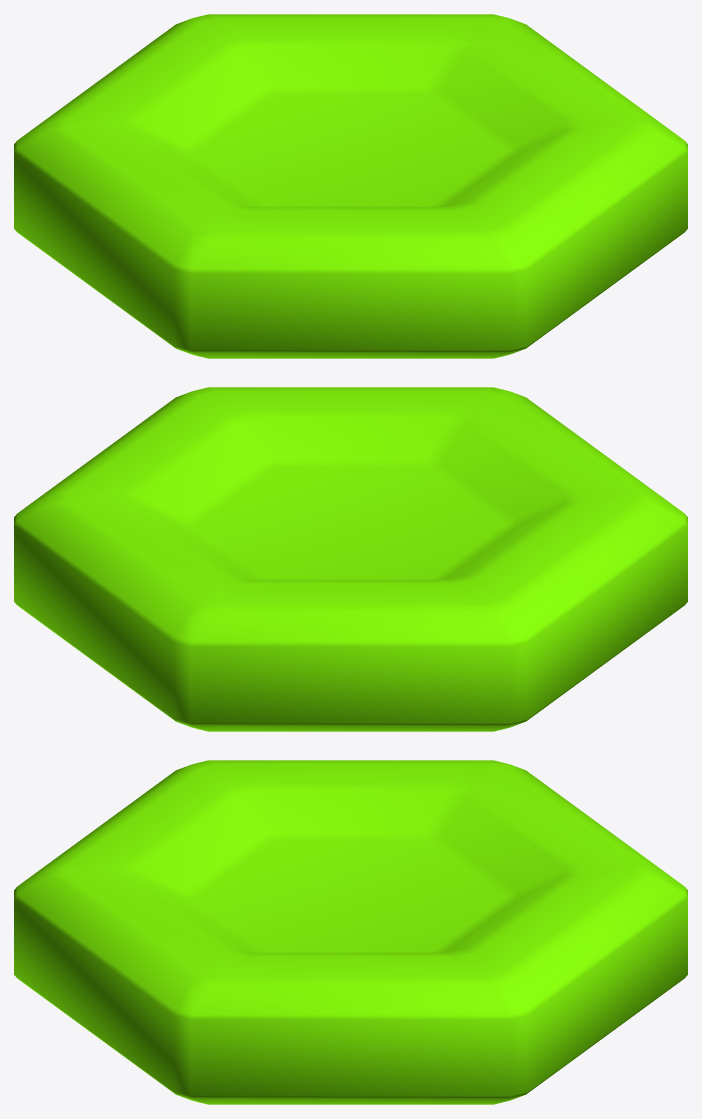
File: MSH_Glucose.fbx
3 views of the same model, one above another, from view 1: azimuth 30°, elevation 25°; view 2: azimuth 150°, elevation 25°; view 3: azimuth 270°, elevation 25° (orthographic).
Visible parts, largest first — view 1: MSH_Glucose; view 2: MSH_Glucose; view 3: MSH_Glucose.
Part boxes in pixels (bbox=[...]): MSH_Glucose: bbox=[14, 14, 687, 358]; MSH_Glucose: bbox=[14, 387, 687, 731]; MSH_Glucose: bbox=[14, 760, 687, 1104].
Size of the model in its own units: 0.1299 by 0.1476 by 0.03.
